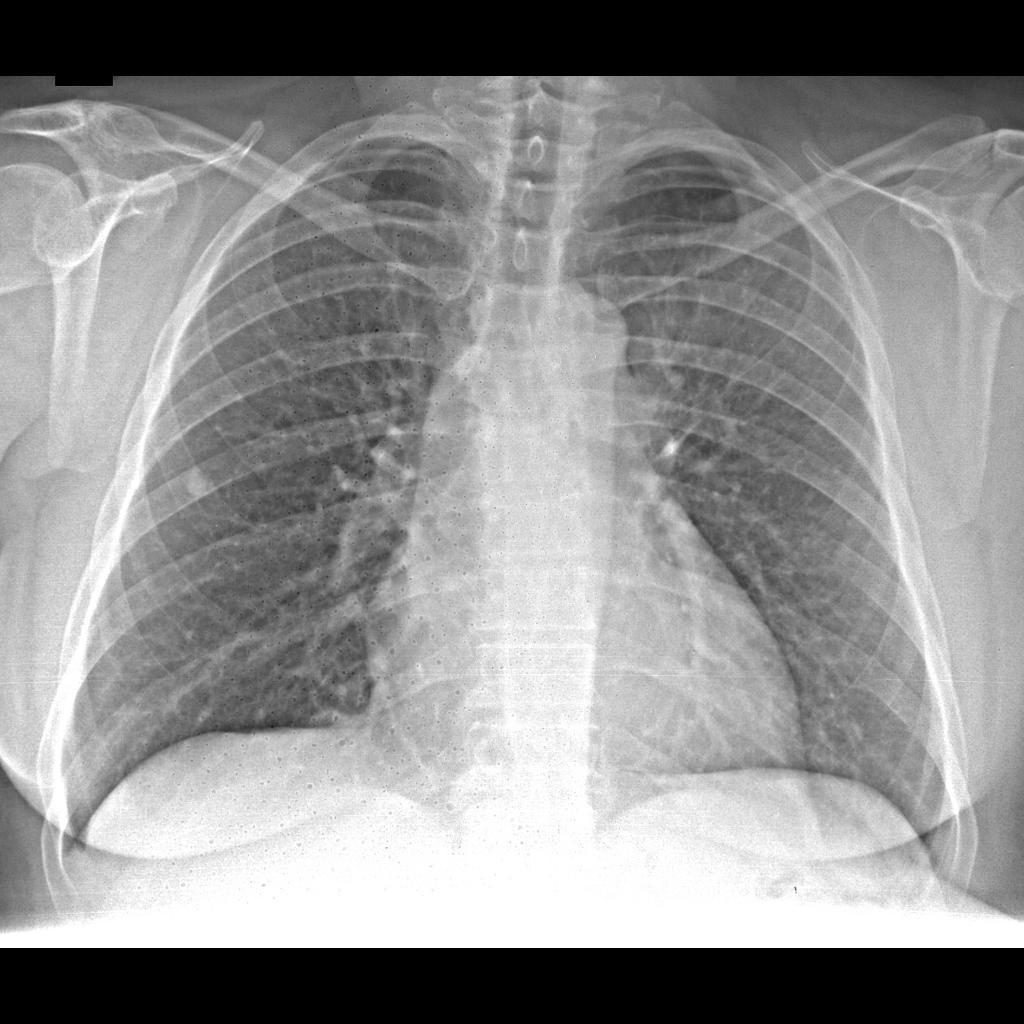Nodule: (185, 466, 224, 511)
